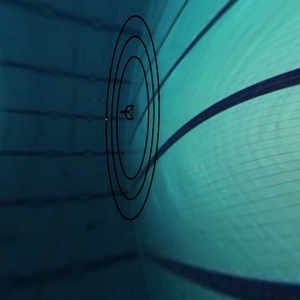circle: (75, 10, 207, 246)
submarine: (117, 100, 144, 130)
